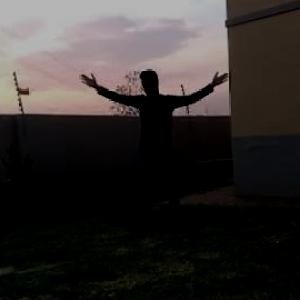takeoff: (85, 71, 229, 229)
